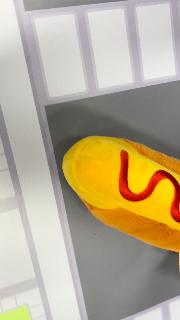hotdog: (63, 134, 180, 253)
